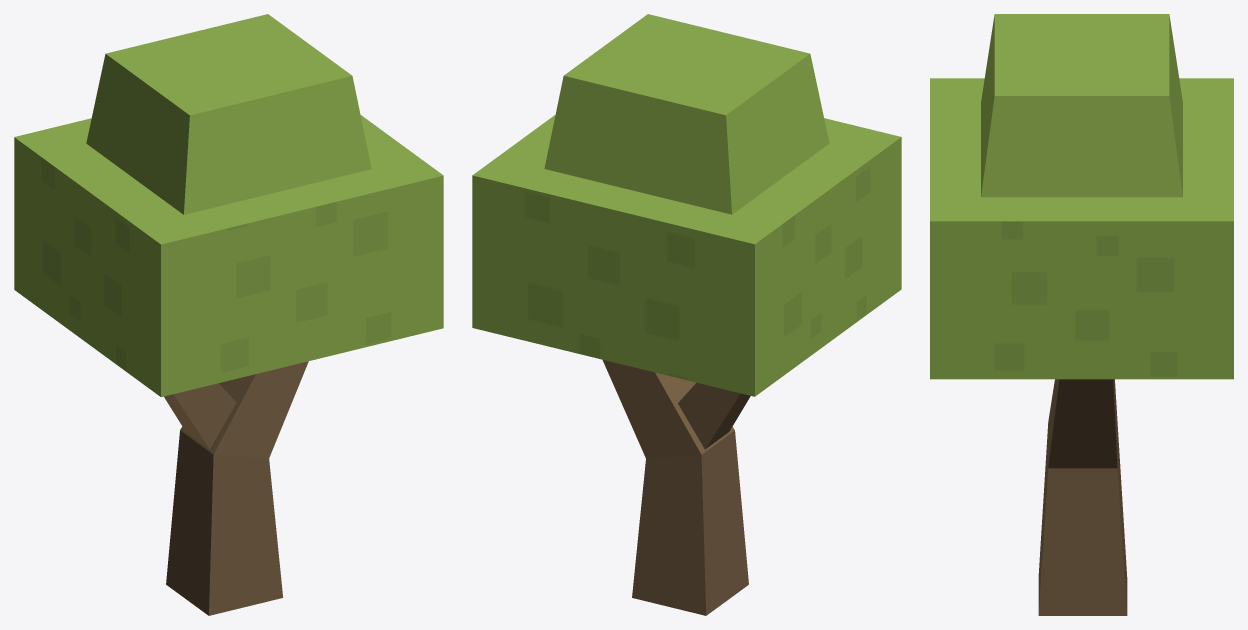
File: Tree_02.fbx
3 renders of one model, left to right at view 1: azimuth 30°, elevation 25°; view 2: azimuth 150°, elevation 25°; view 3: azimuth 270°, elevation 25°, orthographic. The views are drawn at different scales.
Visible parts, largest first — view 1: Tree_02; view 2: Tree_02; view 3: Tree_02.
Boxes of the visible parts, bbox=[...] form: Tree_02: bbox=[14, 14, 443, 615]; Tree_02: bbox=[472, 14, 901, 615]; Tree_02: bbox=[930, 14, 1233, 615].
Size of the model in its own units: 2.27 by 4.03 by 2.04.
